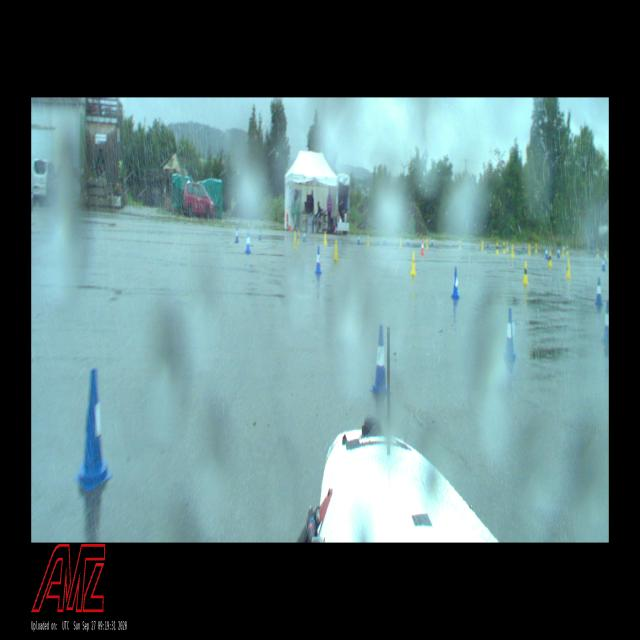blue_cone: (78, 368, 107, 486), (373, 326, 387, 394), (504, 307, 516, 359), (603, 302, 609, 341), (452, 266, 459, 298), (316, 247, 322, 273), (596, 278, 602, 304), (245, 231, 251, 253), (235, 227, 239, 243), (602, 256, 605, 270), (545, 246, 548, 259), (303, 230, 306, 242), (357, 234, 360, 244), (557, 247, 560, 257), (259, 227, 261, 240), (383, 233, 385, 246), (406, 237, 408, 246), (431, 237, 433, 246), (522, 242, 524, 250), (487, 239, 488, 248)
orange_cone: (420, 239, 424, 255)
yellow_cone: (523, 261, 528, 284), (411, 252, 416, 275), (334, 240, 338, 260), (566, 259, 570, 277), (548, 250, 552, 266), (323, 232, 327, 244), (495, 242, 499, 253), (511, 245, 514, 258), (297, 230, 300, 243), (294, 232, 296, 249), (562, 244, 564, 257), (367, 234, 369, 245), (482, 239, 484, 250), (503, 242, 505, 252), (426, 238, 428, 248), (596, 248, 598, 257), (528, 244, 530, 253), (506, 242, 508, 251), (459, 240, 461, 249), (566, 245, 568, 254), (399, 238, 401, 246), (536, 243, 537, 252)
